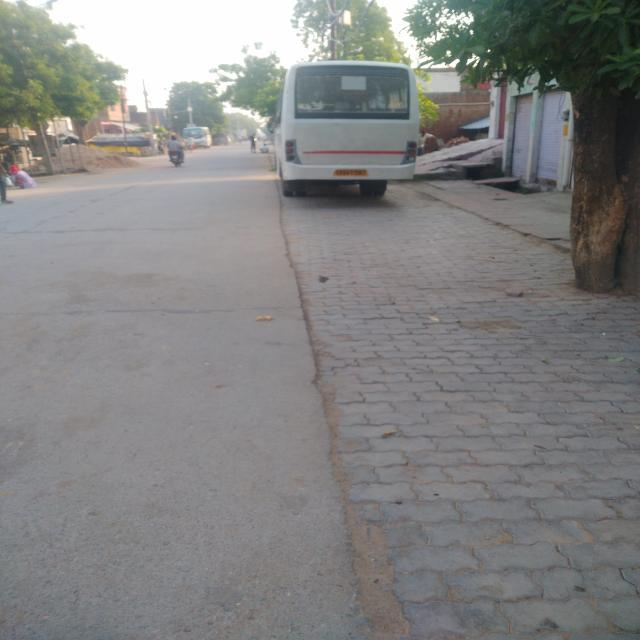Bus: (250, 54, 465, 193)
